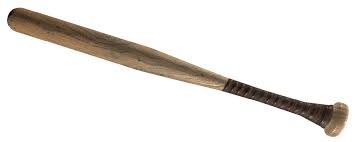baseball bat: (6, 6, 349, 138)
